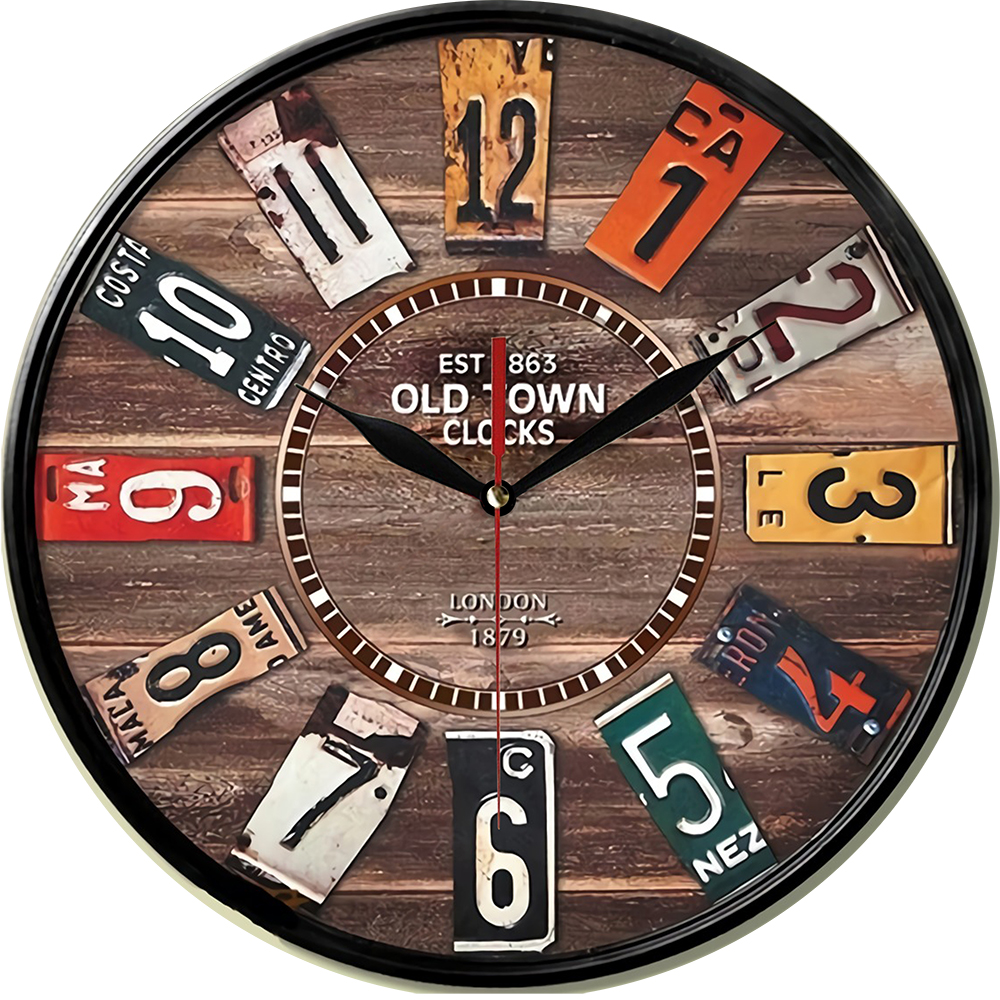jam dinding: (4, 8, 972, 1000)
